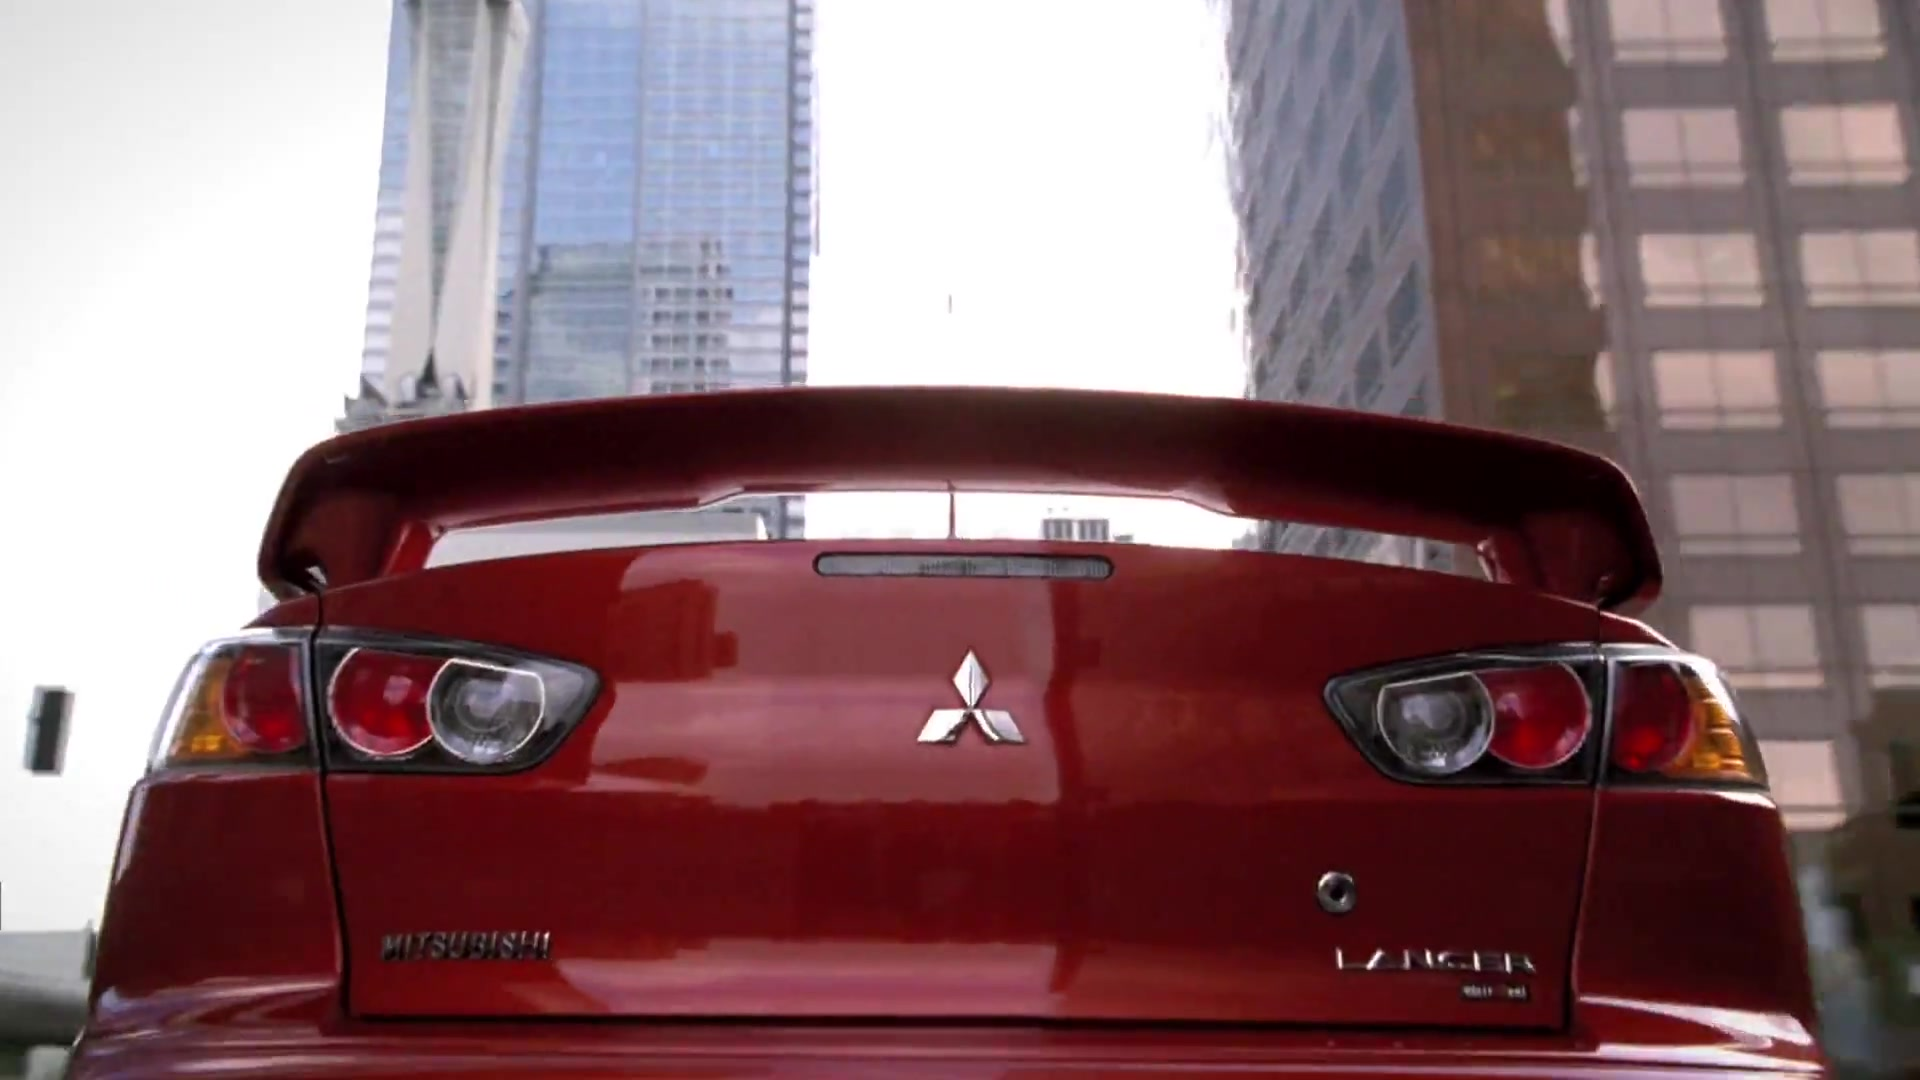car: (62, 382, 1845, 1080)
